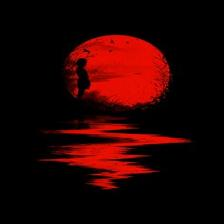red: (39, 117, 191, 190), (64, 35, 170, 111)
